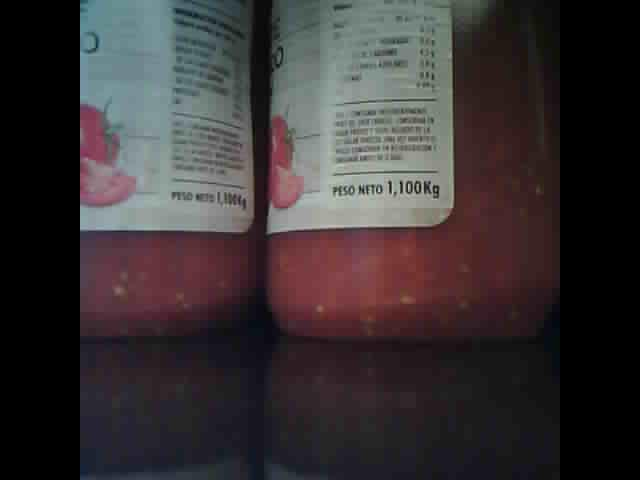tomate: (269, 2, 557, 337), (82, 2, 261, 340)
